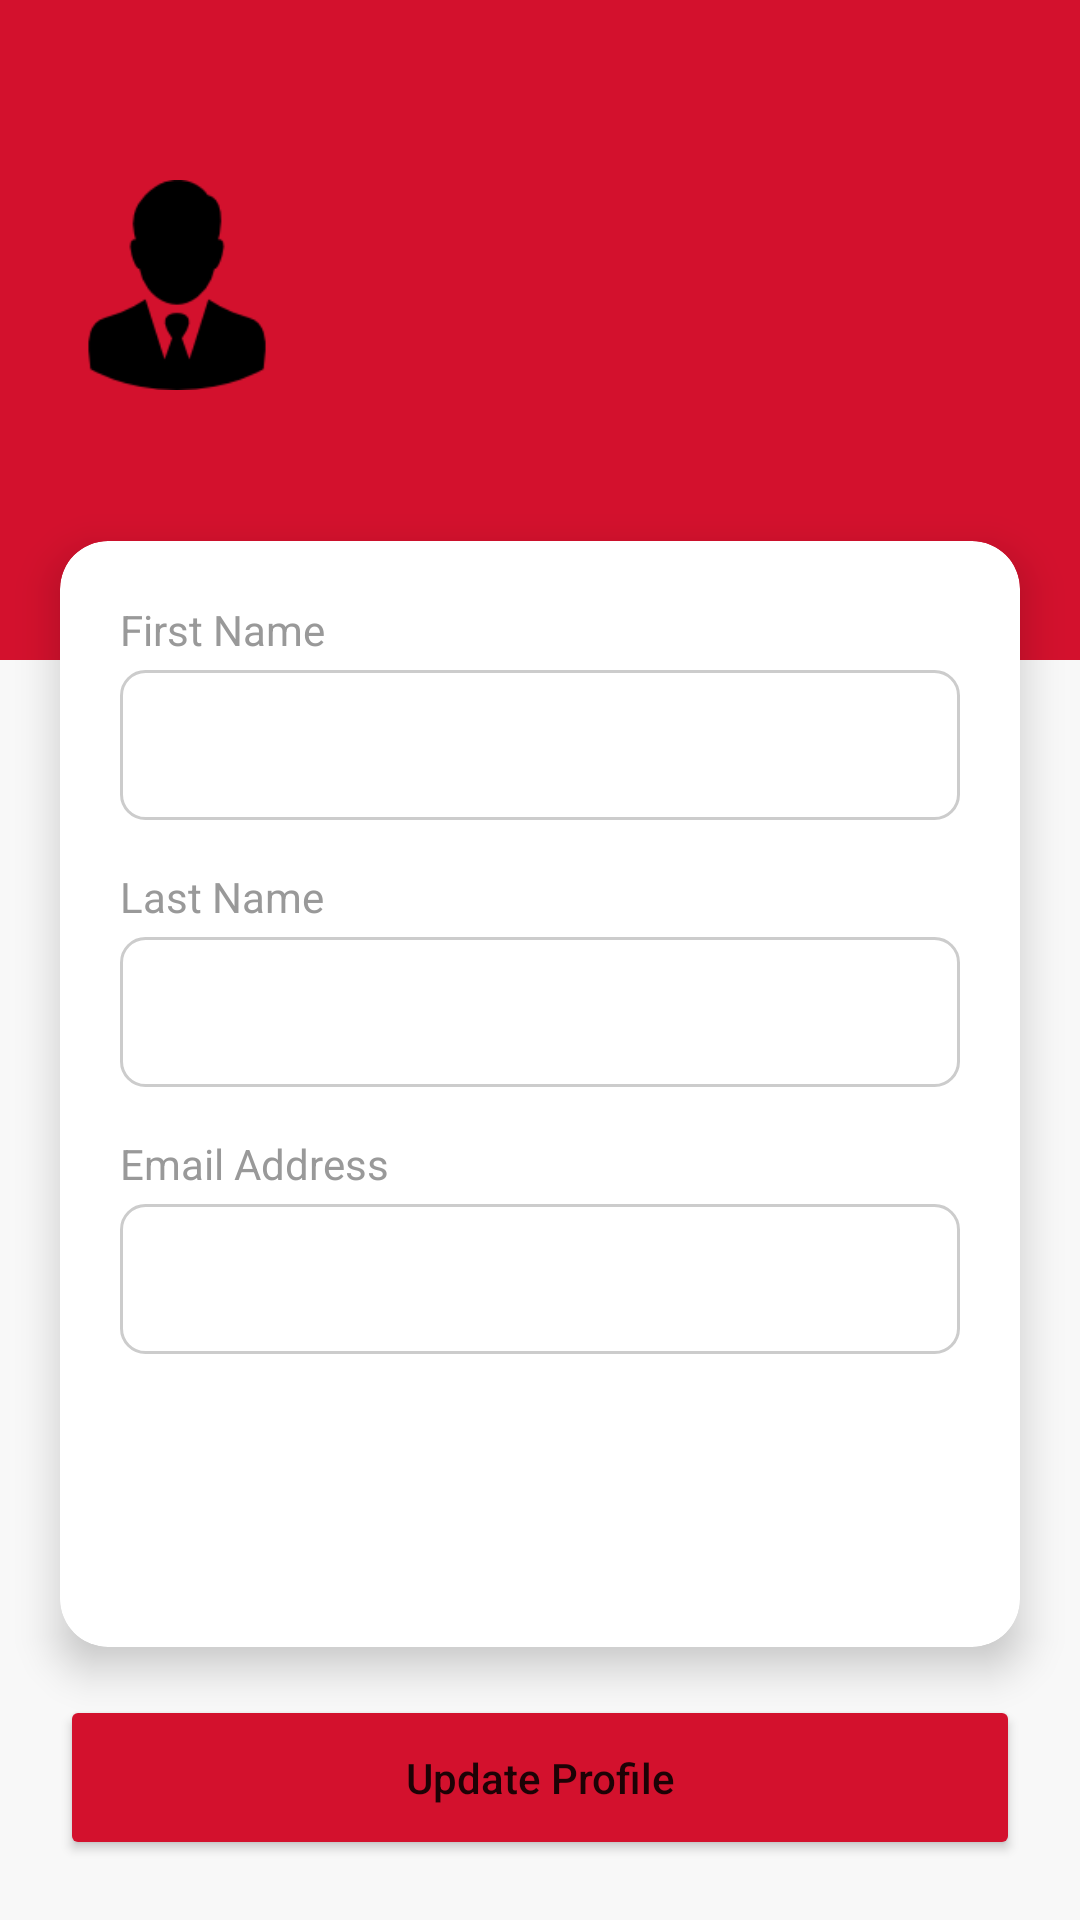

Point at icon controls on the screen. Image size 1080px×1920px, points as (x,y).
person: (177,285)
